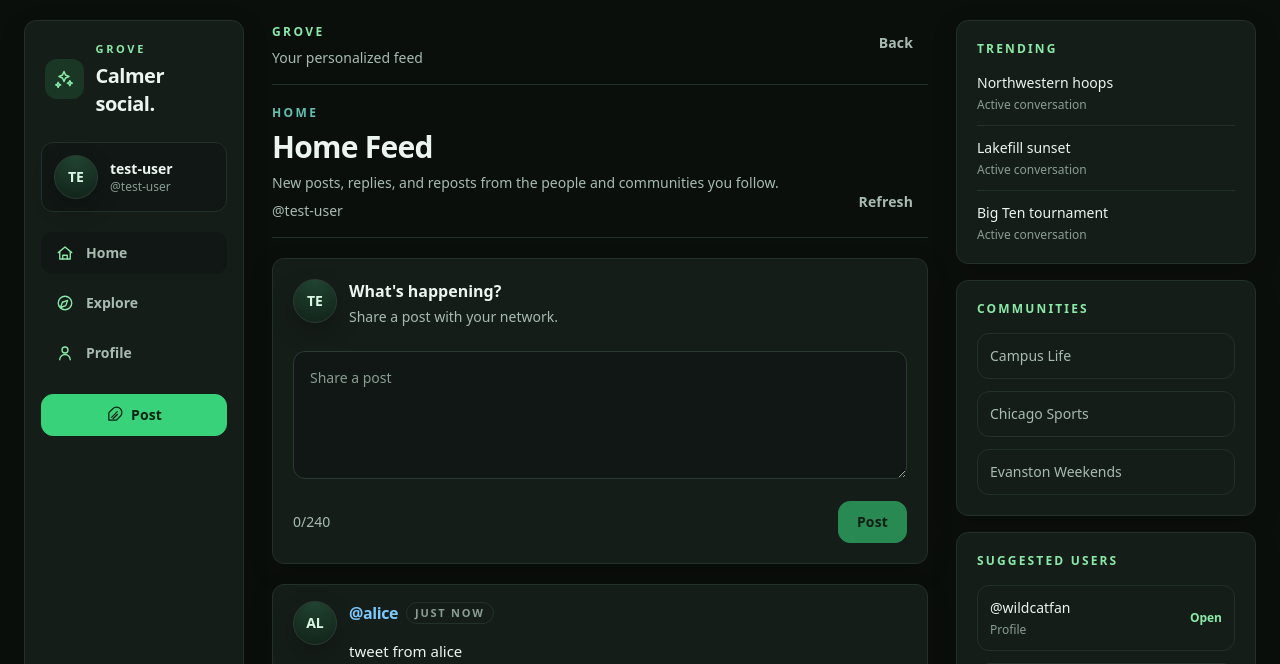
it: HomeFeedPage › clicking author navigates to user profile page
Click the link "@alice". click: (374, 613)
box: [349, 601, 398, 625]
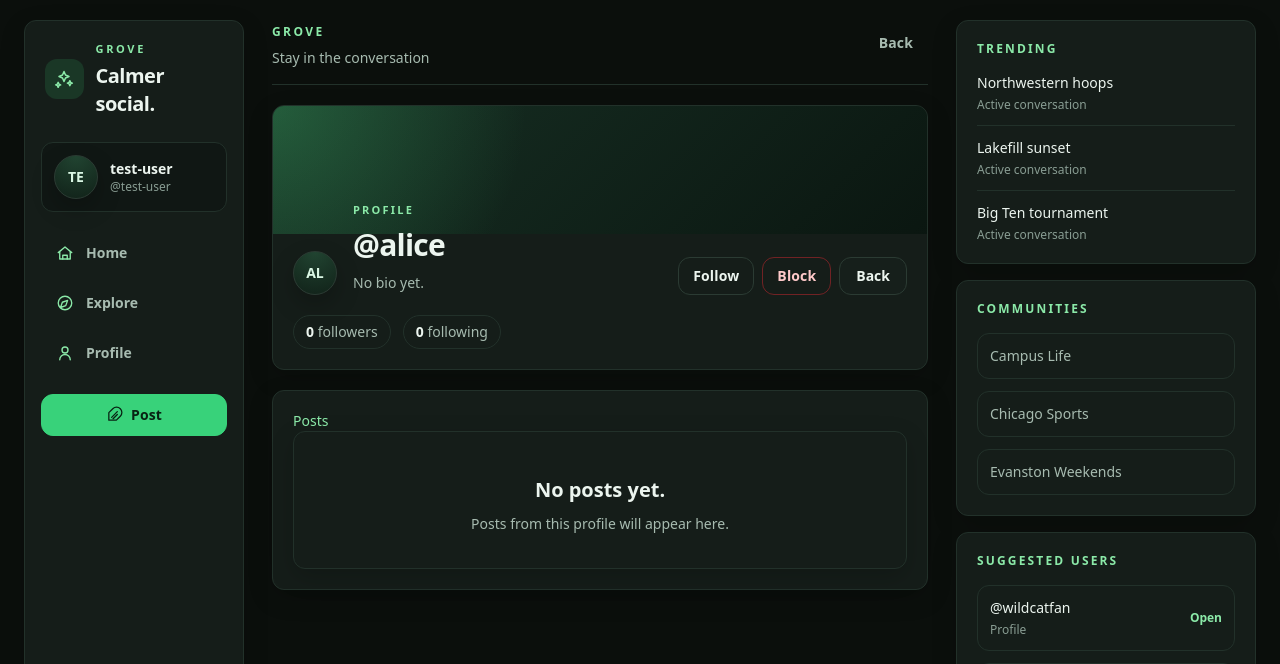
Check: the heading "@alice" is shown, box [353, 226, 445, 262]
